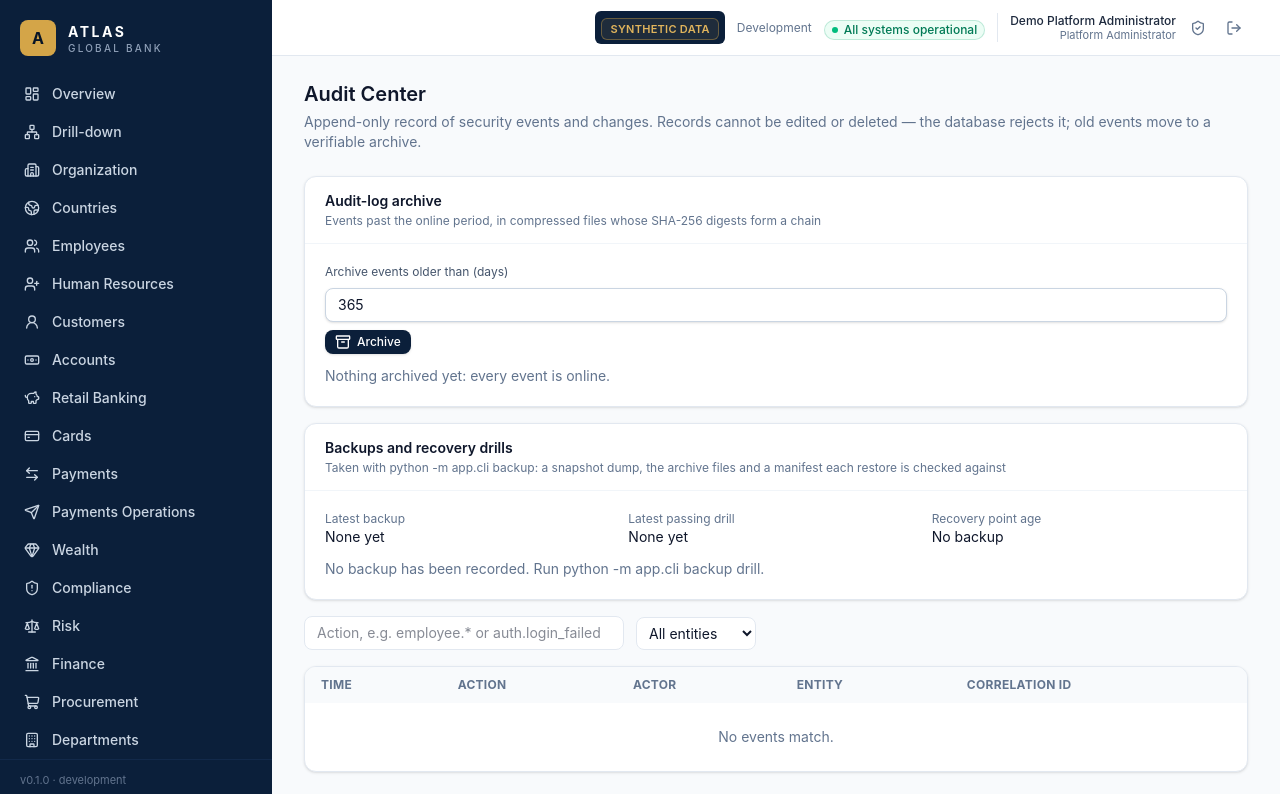
Audit-log archive (Phase 85) › archives old events, verifies an archive and searches it
Expected: the text "Nothing archived yet: every event is online." is shown, left=325, top=367, right=610, bottom=384
Replace the text in the field labelled "Archive events older than (days)" with "400": (776, 305) left=325, top=288, right=1227, bottom=322
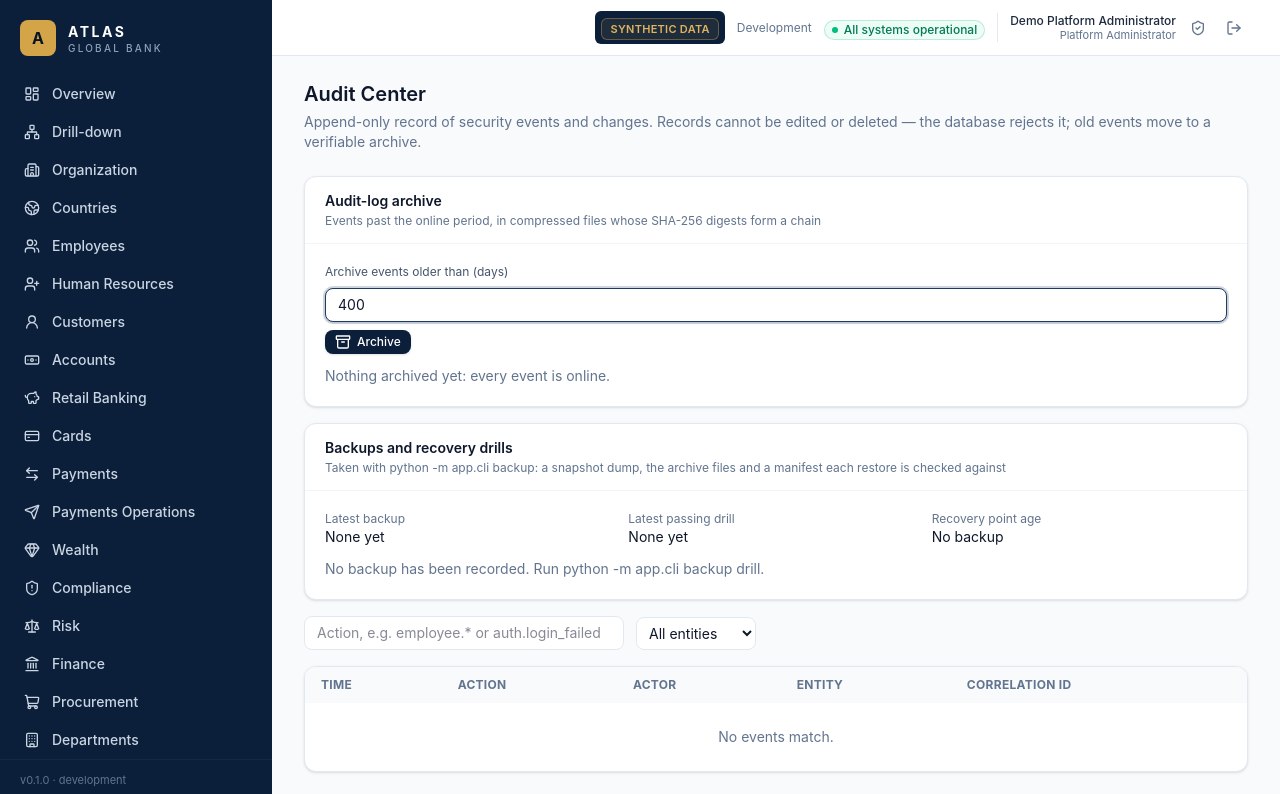
Click the button "Archive": (368, 342) left=325, top=330, right=411, bottom=354
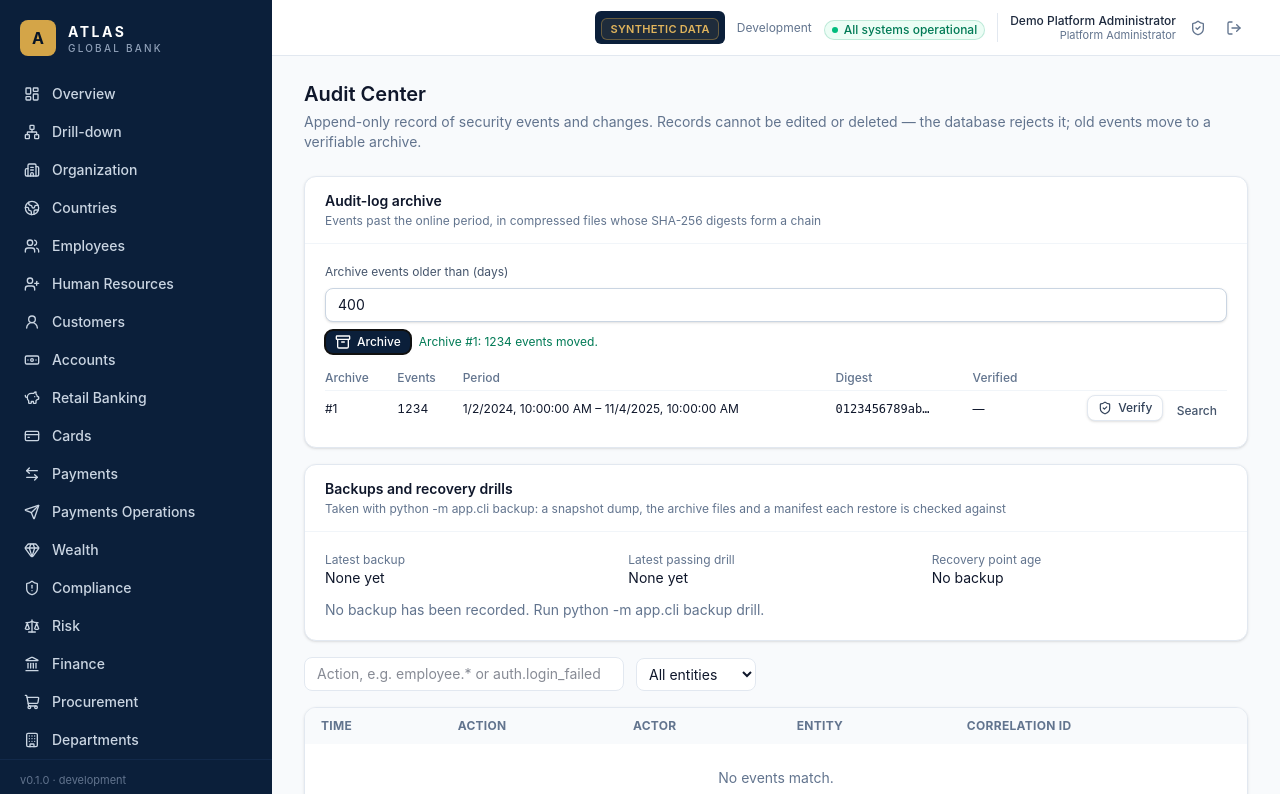
Expected: the message reads "Archive #1: 1234 events moved.", left=419, top=334, right=598, bottom=349
Expected: the table named "Audit archives" shows "0123456789ab…", left=325, top=366, right=1227, bottom=427
Click the button with aria-label "Verify archive 1": (1125, 408) left=1087, top=395, right=1163, bottom=421
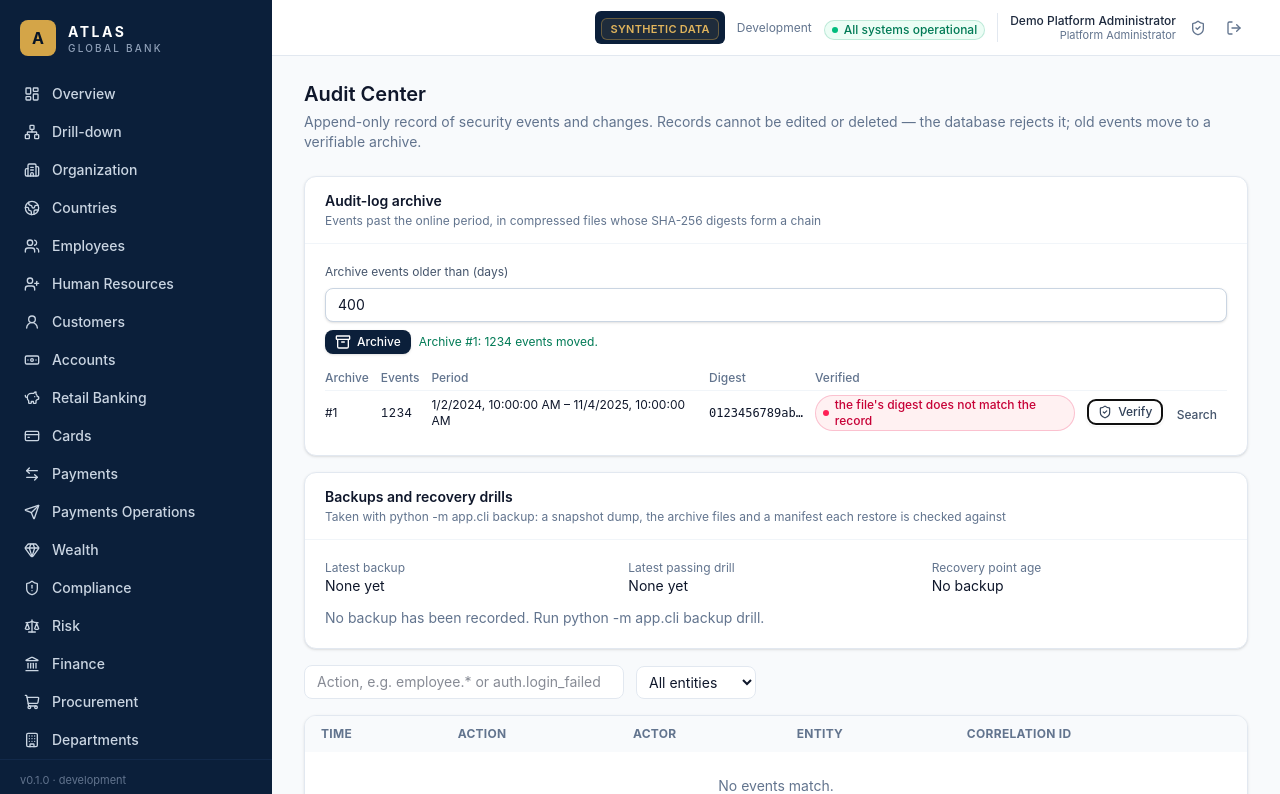
Expected: the text "the file's digest does not match the record" is shown, left=835, top=397, right=1067, bottom=429
Click the button with aria-label "Search archive 1": (1197, 415) left=1167, top=403, right=1227, bottom=427
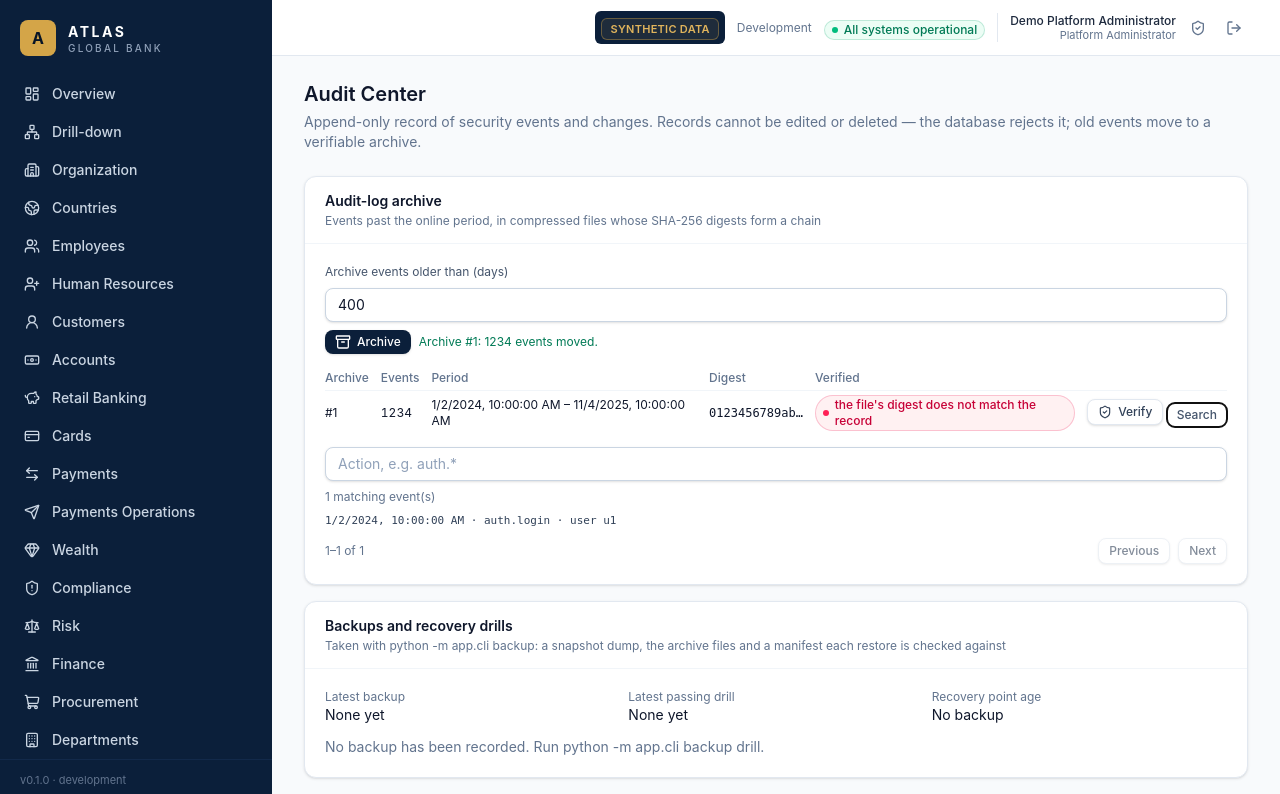
Expected: the list item "1/2/2024, 10:00:00 AM · auth.login · user u1" is shown, left=325, top=514, right=616, bottom=527
